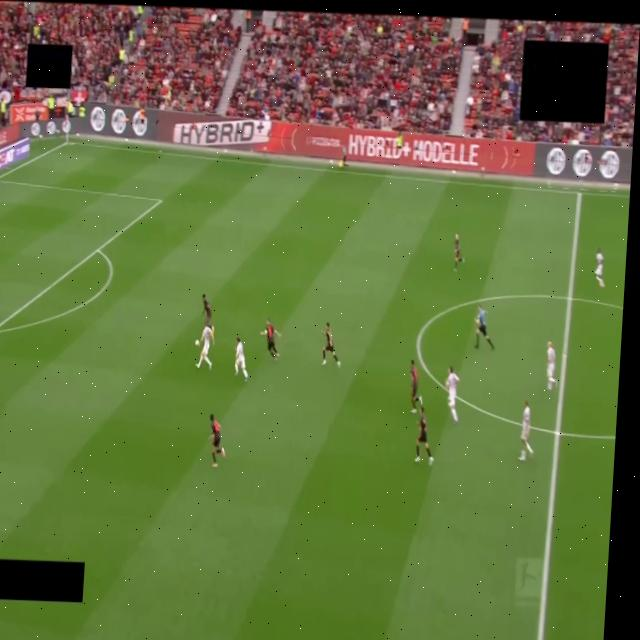ball: (195, 340, 199, 346)
player: (415, 407, 433, 465), (519, 401, 533, 460), (445, 367, 459, 425), (210, 415, 225, 468), (322, 323, 340, 366), (261, 320, 280, 359), (197, 326, 214, 369), (410, 360, 422, 414), (235, 338, 247, 382), (547, 342, 557, 389), (454, 233, 464, 272), (595, 248, 604, 287), (202, 294, 211, 325)
referee: (476, 306, 494, 349)
